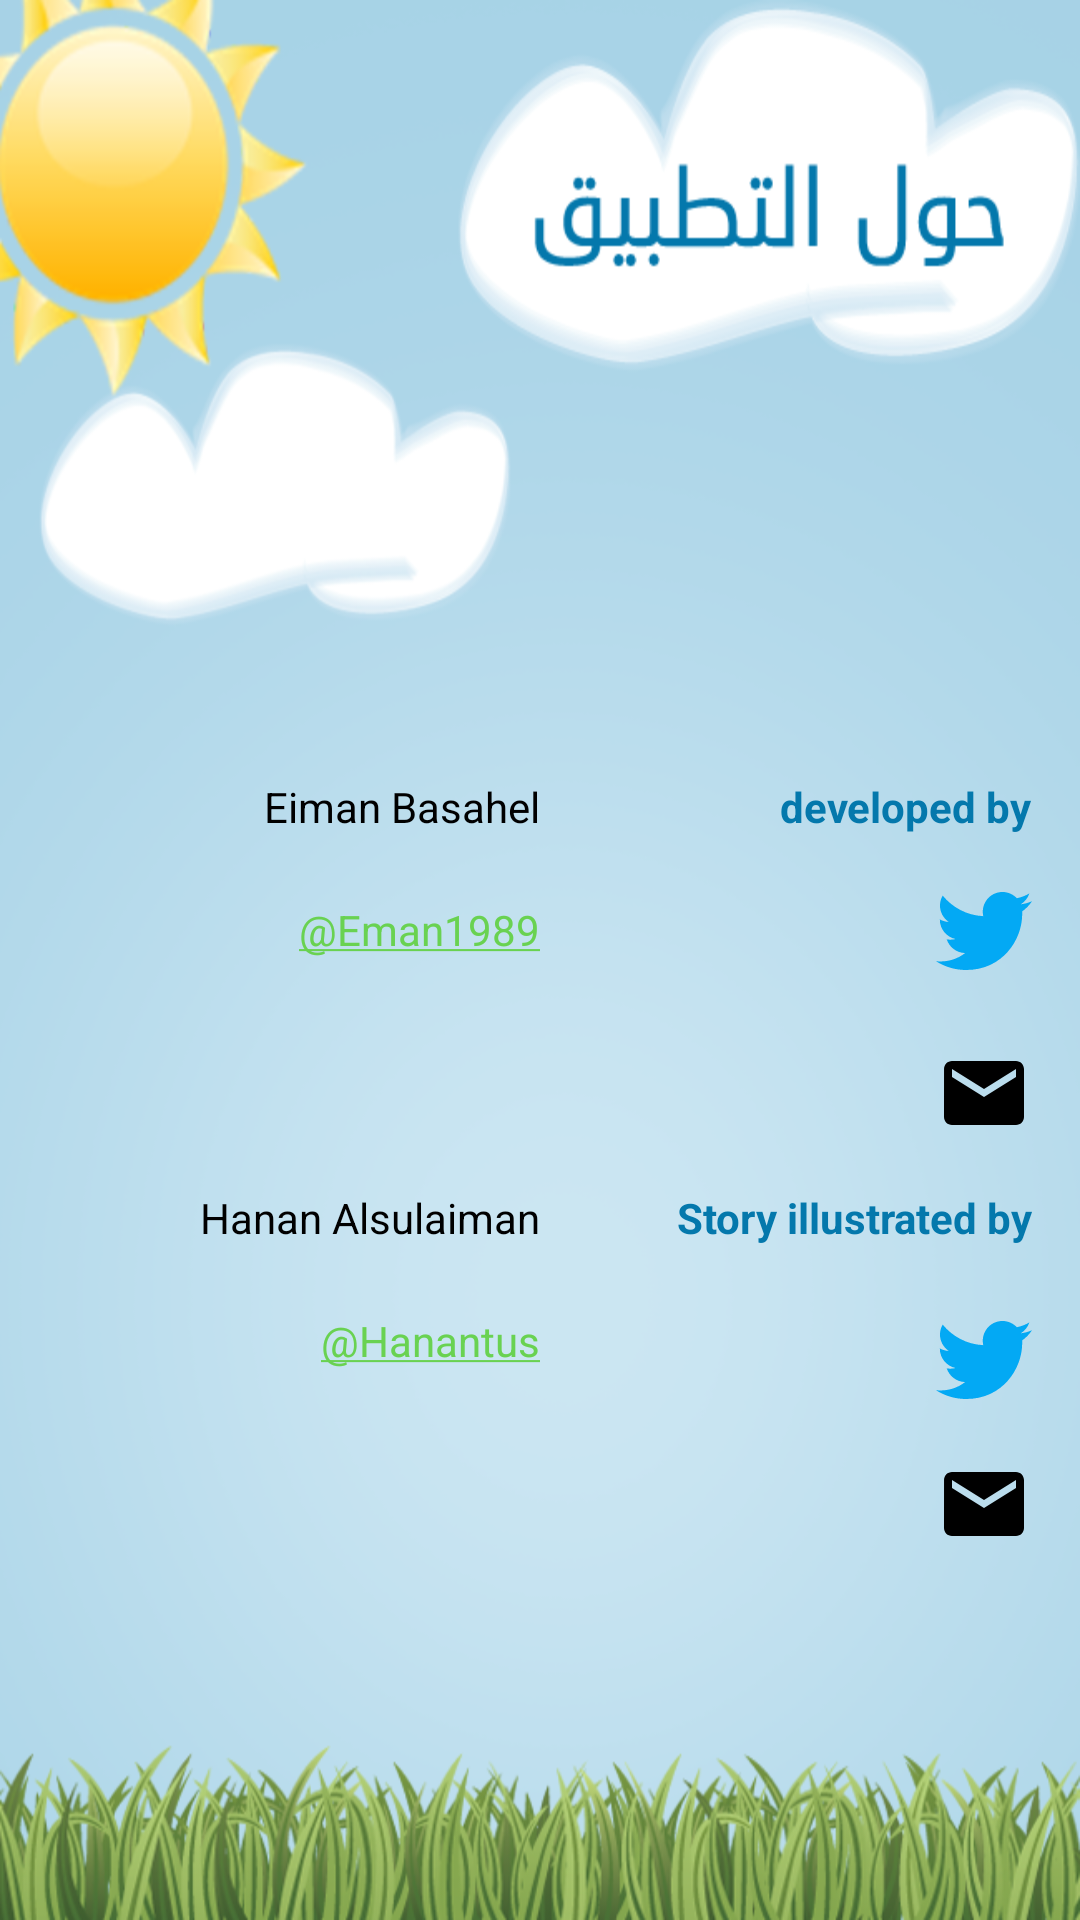

Screen size 1080x1920. Icon name, then its center in pixels as (x,y):
email: (984,1093), (984,1504)
